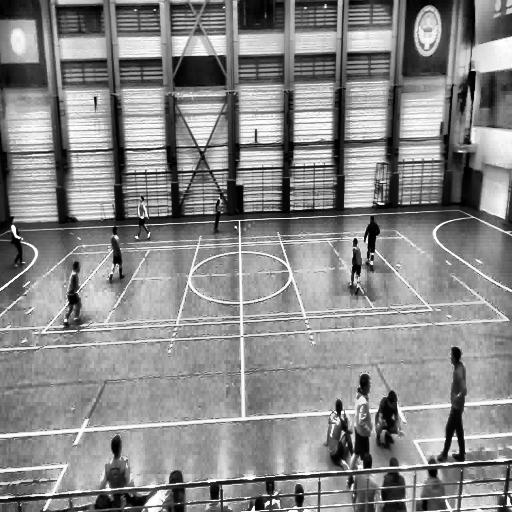ball: (233, 224, 239, 233)
player: (437, 344, 468, 460), (324, 399, 354, 474), (104, 436, 134, 504), (374, 389, 402, 452), (64, 261, 84, 327), (9, 214, 27, 269), (363, 214, 380, 270), (109, 226, 126, 282), (349, 238, 362, 294), (137, 195, 151, 241), (212, 192, 225, 234)
